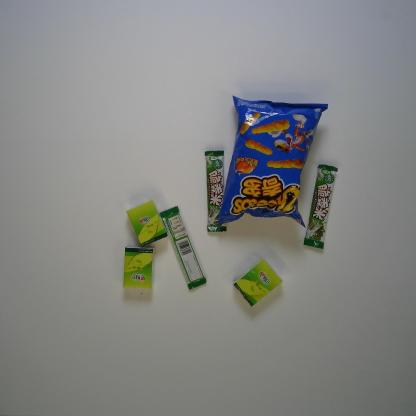Chocolate: (158, 204, 207, 291), (302, 163, 339, 250), (204, 148, 229, 234)
Puffed Food: (218, 94, 330, 228)
Tissue: (232, 256, 284, 308), (124, 199, 170, 249), (121, 246, 155, 292)
